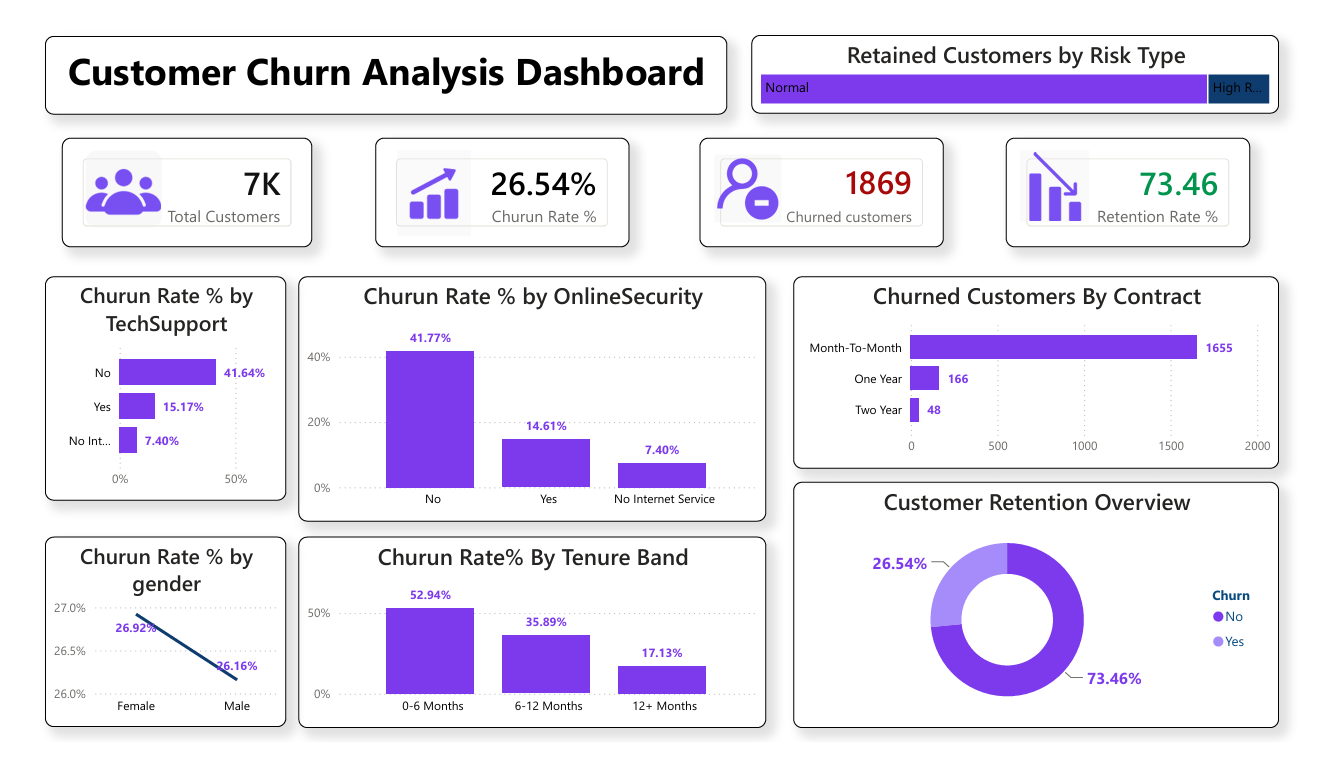

What the dashboard file says about the page in this screenshot:
{"tool":"powerbi","page":{"name":"Page 1","canvas":[1280,720],"ordinal":0},"visuals":[{"type":"textbox","box":[22.7,12.1,684.7,78.6],"z":0},{"type":"treemap","fields":{"Values":["Calculated Measure.Retained Customers"],"Group":["telco_churn_unclean.Risk Type"]},"box":[731.4,11.4,528.6,78.6],"z":1000},{"type":"cardVisual","fields":{"Data":["Calculated Measure.Total Customers"]},"box":[40,114.3,251.4,110],"z":2000},{"type":"cardVisual","fields":{"Data":["Calculated Measure.Churun Rate X"]},"box":[354.3,114.3,254.3,110],"z":3000},{"type":"cardVisual","fields":{"Data":["Calculated Measure.Churned customers"]},"box":[678.6,114.3,245.7,110],"z":4000},{"type":"donutChart","title":"Customer Retention Overview","fields":{"Y":["Calculated Measure.Total Customers"],"Category":["telco_churn_unclean.Churn"]},"box":[772.9,458.6,487.1,247.1],"z":5000},{"type":"barChart","title":"Churned Customers By Contract","fields":{"Y":["Calculated Measure.Churned customers"],"Category":["telco_churn_unclean.Contract"]},"box":[772.9,252.9,487.1,192.9],"z":6000},{"type":"columnChart","fields":{"Category":["telco_churn_unclean.OnlineSecurity"],"Y":["Calculated Measure.Churun Rate %"]},"box":[277.1,252.9,468.6,245.7],"z":7000},{"type":"columnChart","title":"Churun Rate% By Tenure Band","fields":{"Y":["Calculated Measure.Churun Rate %"],"Category":["telco_churn_unclean.Tenure Band"]},"box":[277.1,514.3,468.6,191.4],"z":8000},{"type":"image","box":[64.3,127.1,75.7,77.1],"z":9000},{"type":"image","box":[375.7,127.1,74.3,85.7],"z":10000},{"type":"image","box":[694.3,131.4,67.1,67.1],"z":11000},{"type":"cardVisual","fields":{"Data":["Calculated Measure.Retention Rate %"]},"box":[985.7,114.3,245.7,110],"z":12000},{"type":"image","box":[1001.4,127.1,68.6,71.4],"z":13000},{"type":"clusteredBarChart","fields":{"Category":["telco_churn_unclean.TechSupport"],"Y":["Calculated Measure.Churun Rate %"]},"box":[23.3,253.3,241.7,225],"z":14000},{"type":"lineChart","fields":{"Category":["telco_churn_unclean.gender"],"Y":["Calculated Measure.Churun Rate %"]},"box":[23,514,242,191],"z":15000}]}

Visuals, with their boxes in screenshot pixels (x1, y1, x2, y2), scaled from the page's 1280x720 canvas onto the 1318x757 screenshot:
textbox: [left=23, top=13, right=728, bottom=95]
treemap - Calculated Measure.Retained Customers x telco_churn_unclean.Risk Type: [left=753, top=12, right=1297, bottom=95]
cardVisual - Calculated Measure.Total Customers: [left=41, top=120, right=300, bottom=236]
cardVisual - Calculated Measure.Churun Rate X: [left=365, top=120, right=627, bottom=236]
cardVisual - Calculated Measure.Churned customers: [left=699, top=120, right=952, bottom=236]
"Customer Retention Overview" donutChart: [left=796, top=482, right=1297, bottom=742]
"Churned Customers By Contract" barChart: [left=796, top=266, right=1297, bottom=469]
columnChart - telco_churn_unclean.OnlineSecurity x Calculated Measure.Churun Rate %: [left=285, top=266, right=768, bottom=524]
"Churun Rate% By Tenure Band" columnChart: [left=285, top=541, right=768, bottom=742]
image: [left=66, top=134, right=144, bottom=215]
image: [left=387, top=134, right=463, bottom=224]
image: [left=715, top=138, right=784, bottom=209]
cardVisual - Calculated Measure.Retention Rate %: [left=1015, top=120, right=1268, bottom=236]
image: [left=1031, top=134, right=1102, bottom=209]
clusteredBarChart - telco_churn_unclean.TechSupport x Calculated Measure.Churun Rate %: [left=24, top=266, right=273, bottom=503]
lineChart - telco_churn_unclean.gender x Calculated Measure.Churun Rate %: [left=24, top=540, right=273, bottom=741]
